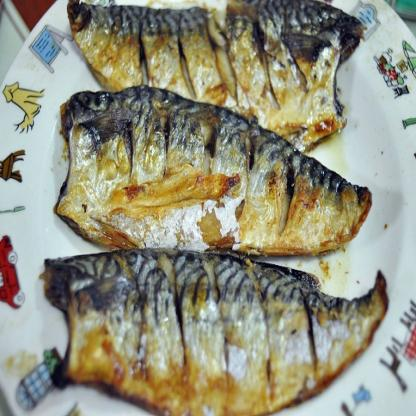Peixe: (29, 0, 389, 416)
